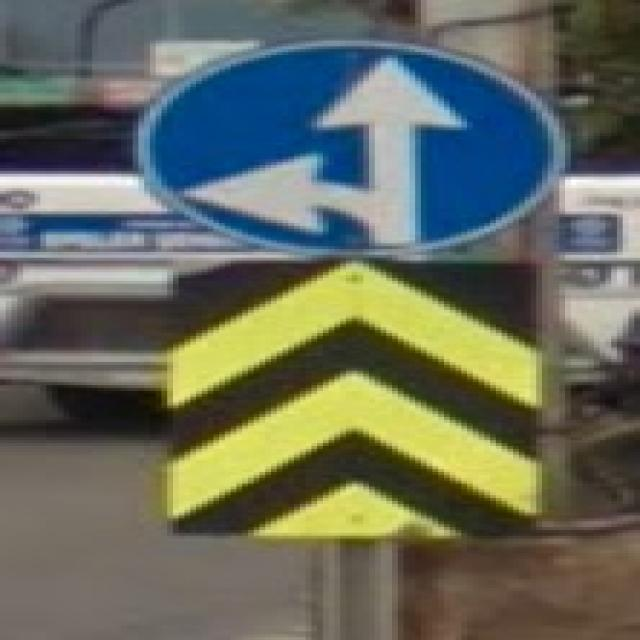Straight or Left: (137, 37, 563, 257)
